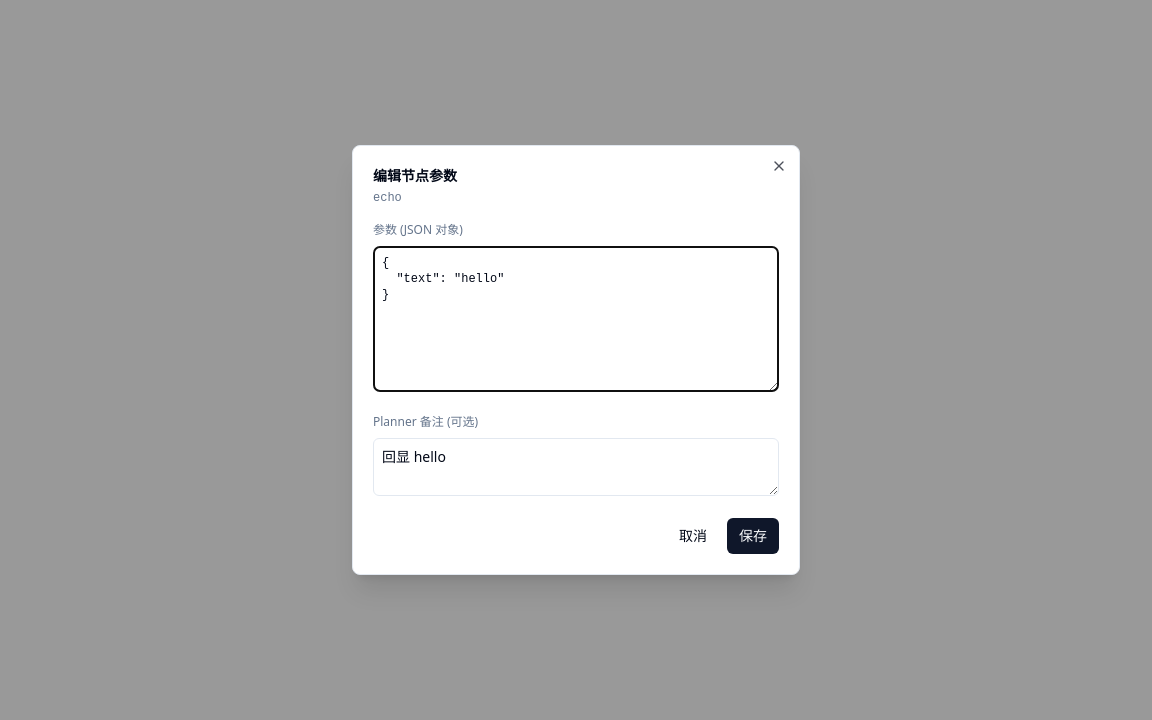
Scenario: NodeEditDialog › blocks submit when parameters is not a JSON object (e.g. a bare string)
Replace the text in the text box with test id "node-edit-parameters" with "\"just a string\"" at (576, 319), box [373, 246, 779, 392]
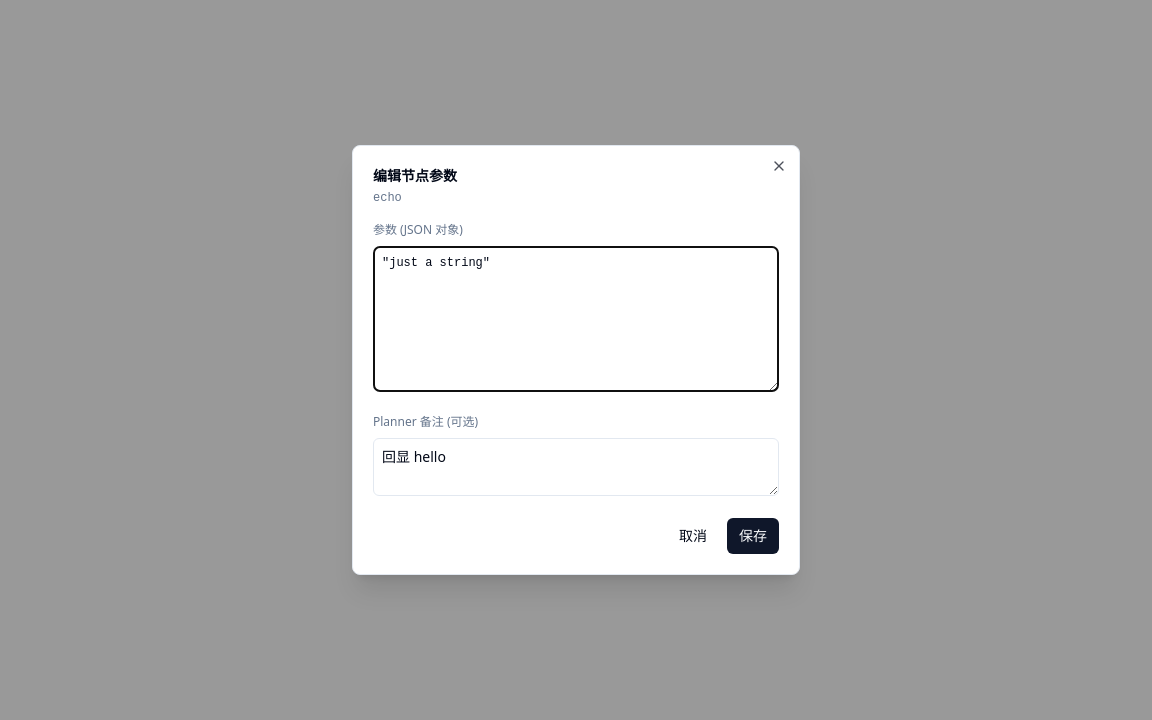
Click the button with test id "node-edit-submit" at (753, 536), box [727, 518, 779, 554]
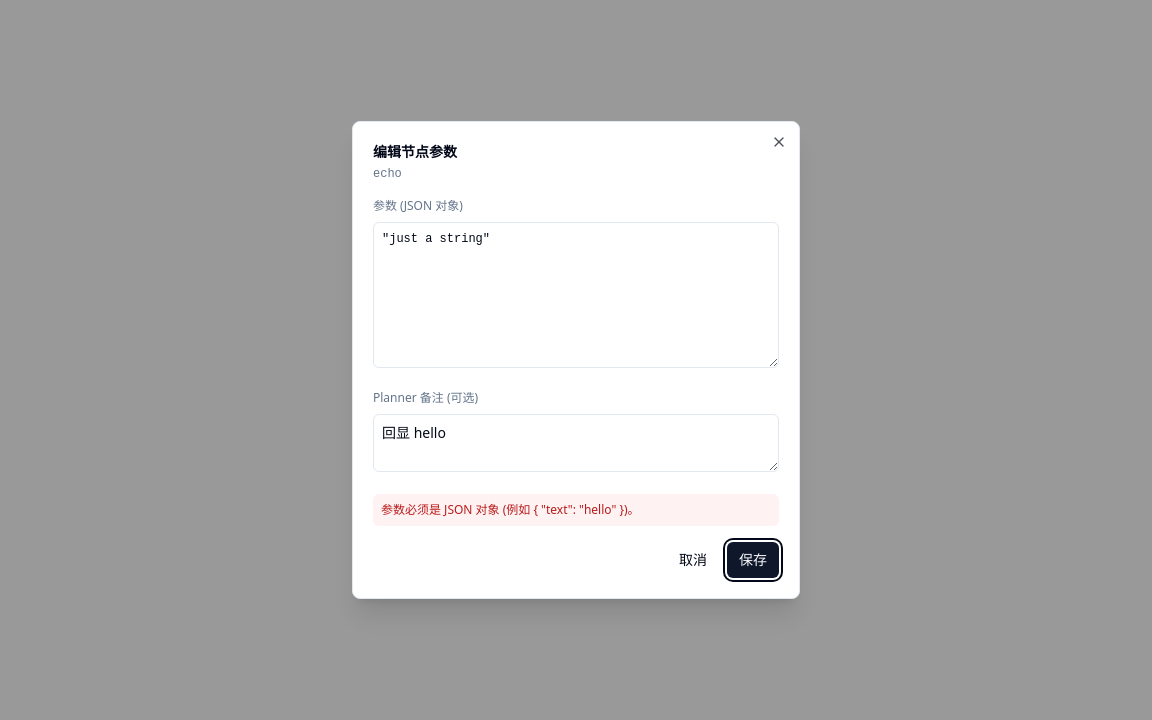
Result: the message with test id "node-edit-error" shows "对象" at [381, 501, 640, 518]
